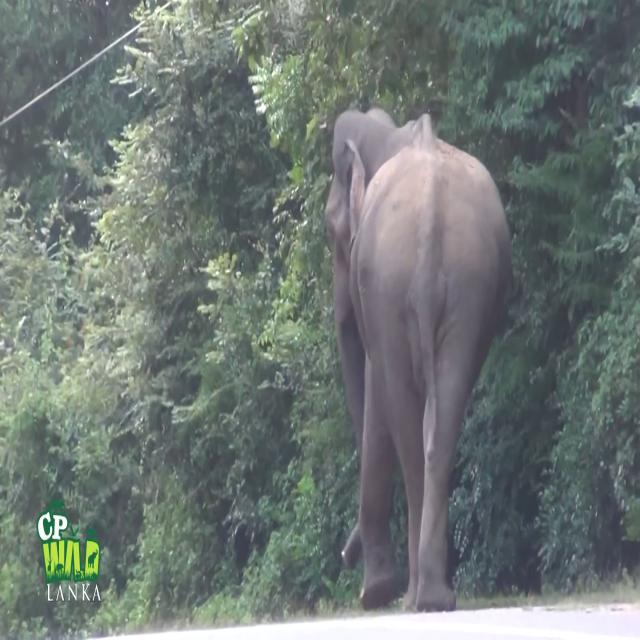Elephant: (325, 106, 514, 613)
